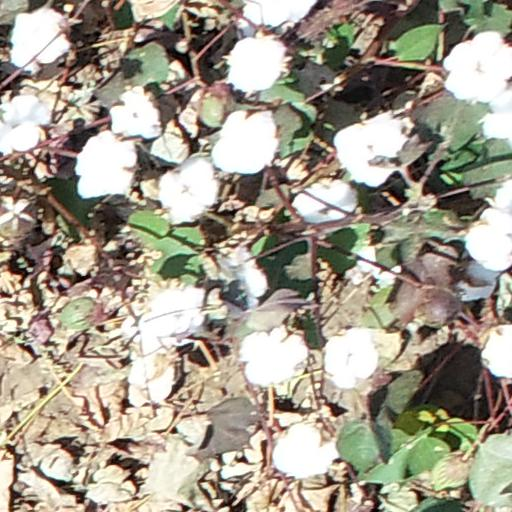Boll: (444, 31, 512, 106), (334, 111, 401, 185), (212, 109, 280, 175), (73, 134, 143, 198), (241, 329, 305, 386), (10, 12, 71, 71), (272, 424, 339, 477), (161, 157, 212, 220), (227, 37, 285, 92), (325, 331, 377, 391), (146, 291, 204, 341), (296, 179, 359, 225), (110, 88, 164, 137), (468, 211, 512, 270), (2, 97, 46, 155), (131, 352, 177, 405), (484, 328, 512, 375), (487, 99, 512, 138)
